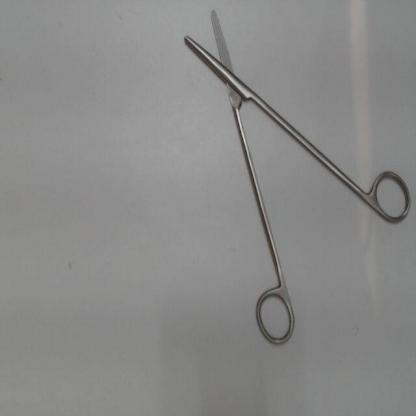9 Metzenbaum Scissors: (180, 6, 412, 352)
